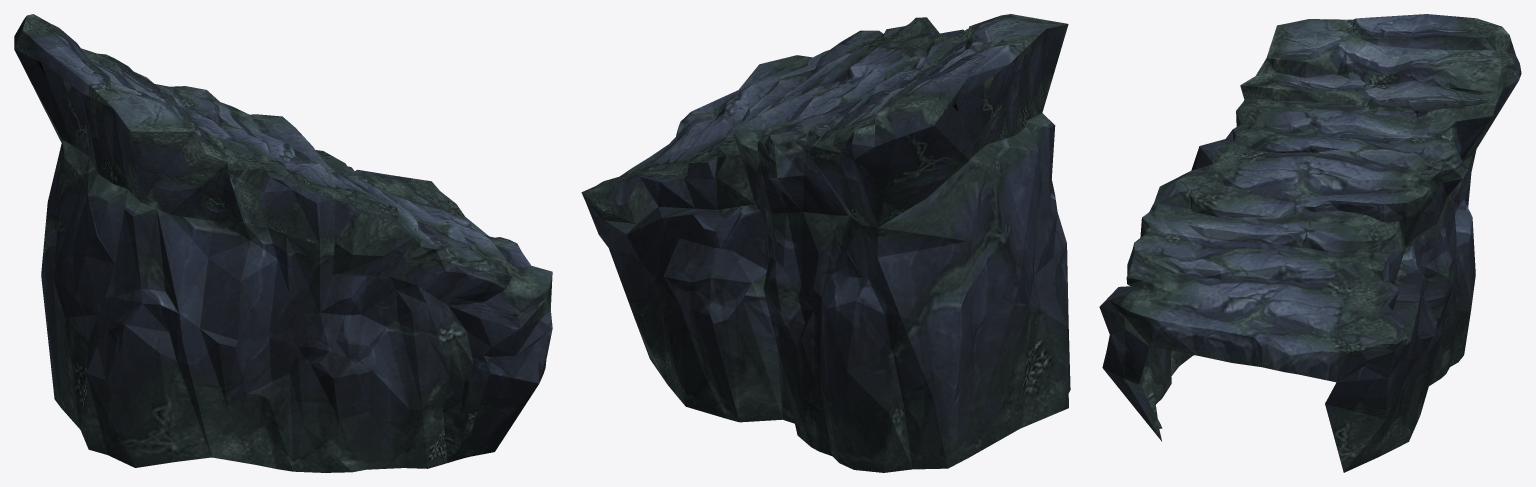
The model's file is cs_lobbynew02_wujian_zhiji_jieti.FBX.
3 views of the same model, side by side, from view 1: azimuth 30°, elevation 25°; view 2: azimuth 150°, elevation 25°; view 3: azimuth 270°, elevation 25° (orthographic). The views are drawn at different scales.
Parts seen in each view (by area): view 1: cs_lobbynew02_wujian_zhiji_jieti; view 2: cs_lobbynew02_wujian_zhiji_jieti; view 3: cs_lobbynew02_wujian_zhiji_jieti.
Boxes of the visible parts, box(x1,y1,x2,y2) form: cs_lobbynew02_wujian_zhiji_jieti: box(14, 14, 552, 472); cs_lobbynew02_wujian_zhiji_jieti: box(581, 14, 1070, 472); cs_lobbynew02_wujian_zhiji_jieti: box(1099, 14, 1521, 472).
Size of the model in its own units: 796 by 862 by 718.
